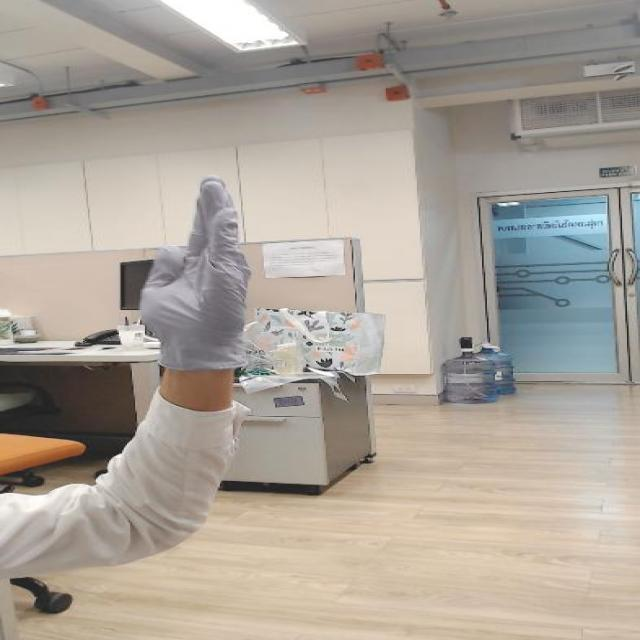with_gloves: (109, 156, 288, 352)
